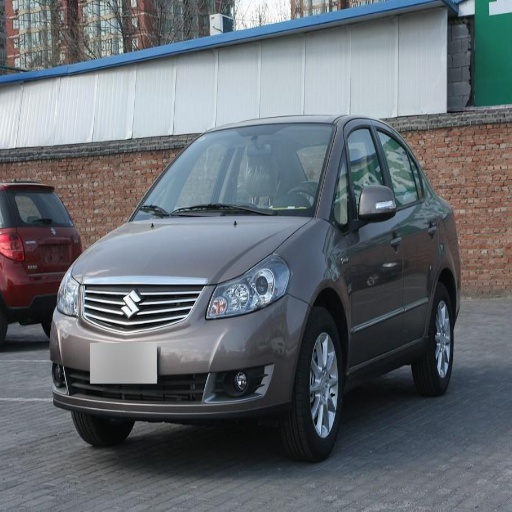front_bumper: (55, 280, 309, 420)
front_glass: (136, 124, 334, 217)
front_left_door: (332, 120, 403, 363)
